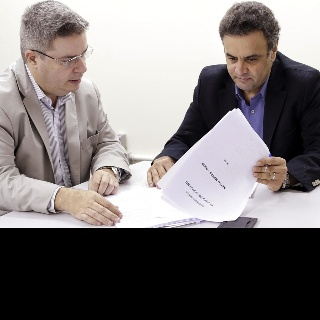without_mask: (39, 33, 87, 90), (223, 36, 270, 90)
